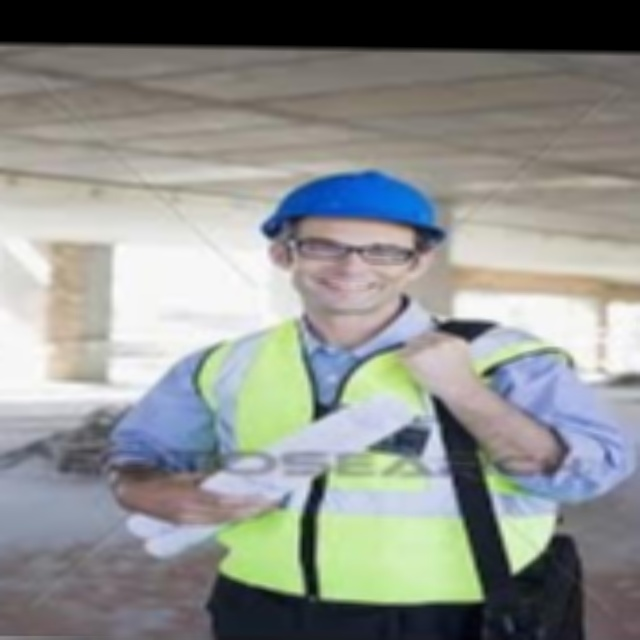Con_Casco: (260, 170, 444, 307)
Con_Chaleco: (144, 311, 563, 594)
